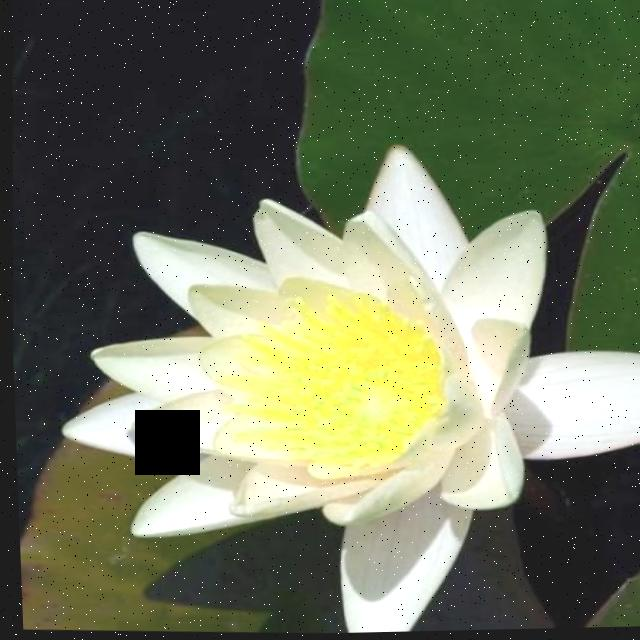rose: (12, 72, 640, 640)
